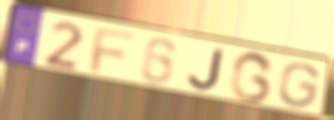2: (43, 20, 86, 72)
6: (139, 37, 178, 85)
F: (88, 26, 137, 75)
G: (228, 51, 277, 105), (276, 61, 322, 110)
J: (186, 47, 226, 92)
